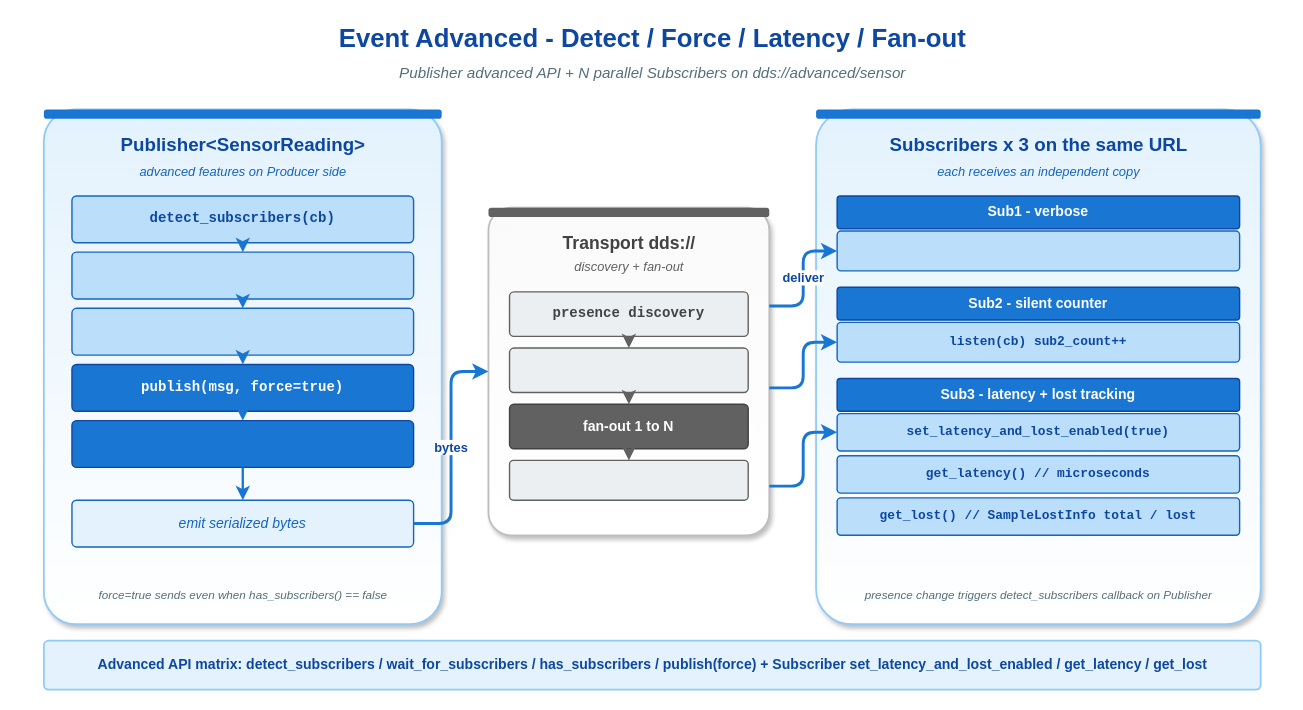
Some shapes in this 1303 by 710 pixel diagram are drawn without their labels. Here are the shapes that lost their labels. From the top down, the centre of each, then its label:
At (x=1038, y=250): "listen(cb) VLOG_I(sensor_id, value)".
At (x=242, y=275): "has_subscribers()".
At (x=242, y=331): "wait_for_subscribers(2000ms)".
At (x=628, y=370): "timestamp + seq".
At (x=242, y=443): "publish(msg) x5".
At (x=628, y=479): "QoS Reliable".
